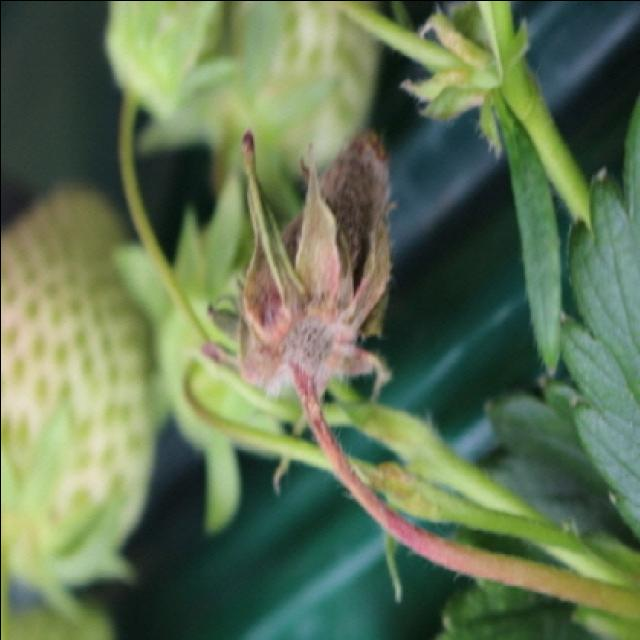Gray Mold: (197, 123, 395, 457)
